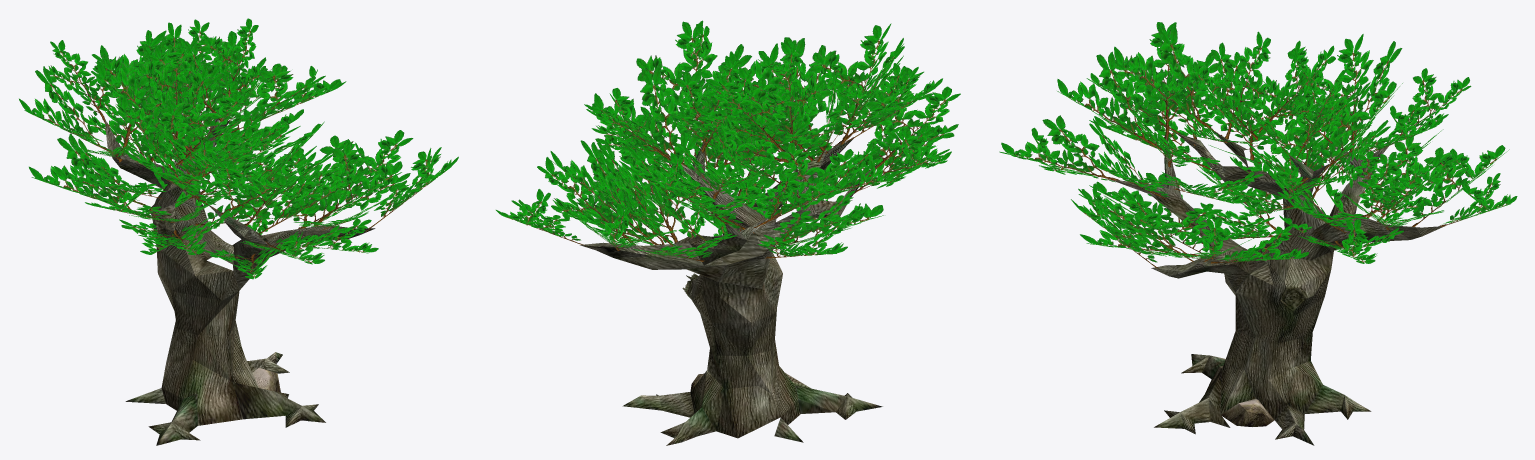
The model's file is oak.glb.
The picture shows the model from 3 angles, left to right: view 1: azimuth 30°, elevation 25°; view 2: azimuth 150°, elevation 25°; view 3: azimuth 270°, elevation 25°; orthographic projection. The views are drawn at different scales.
Visible parts, largest first — view 1: oak; view 2: oak; view 3: oak.
Part boxes in pixels (bbox=[...]): oak: bbox=[19, 18, 458, 445]; oak: bbox=[496, 20, 960, 445]; oak: bbox=[999, 22, 1517, 445].
Bounding box in the file's own units: 212 × 207 × 282.
2 materials, 2 textured.
